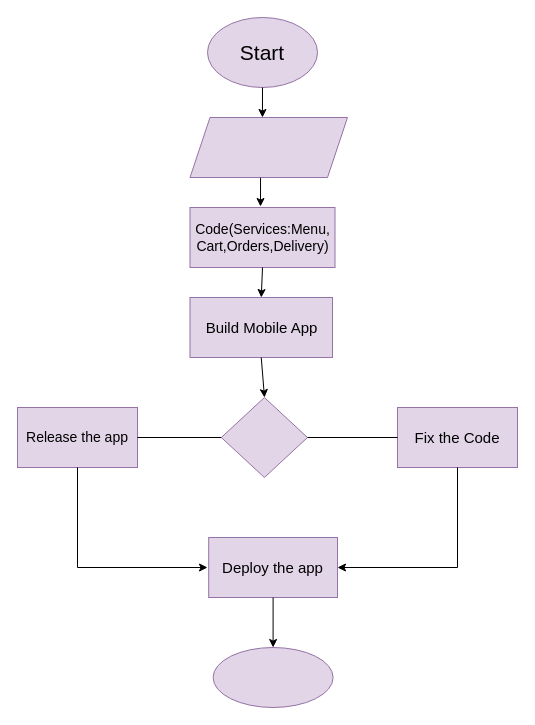
The diagram is 535 pixels wide and 725 high, and some of its shapes have lost their labels. Here are the shapes that lost their labels. From the top down, the centre of each, then its label:
point 268,147: Plan Features (Search,Orders,Pay)
point 264,437: Test Passed
point 272,677: End
